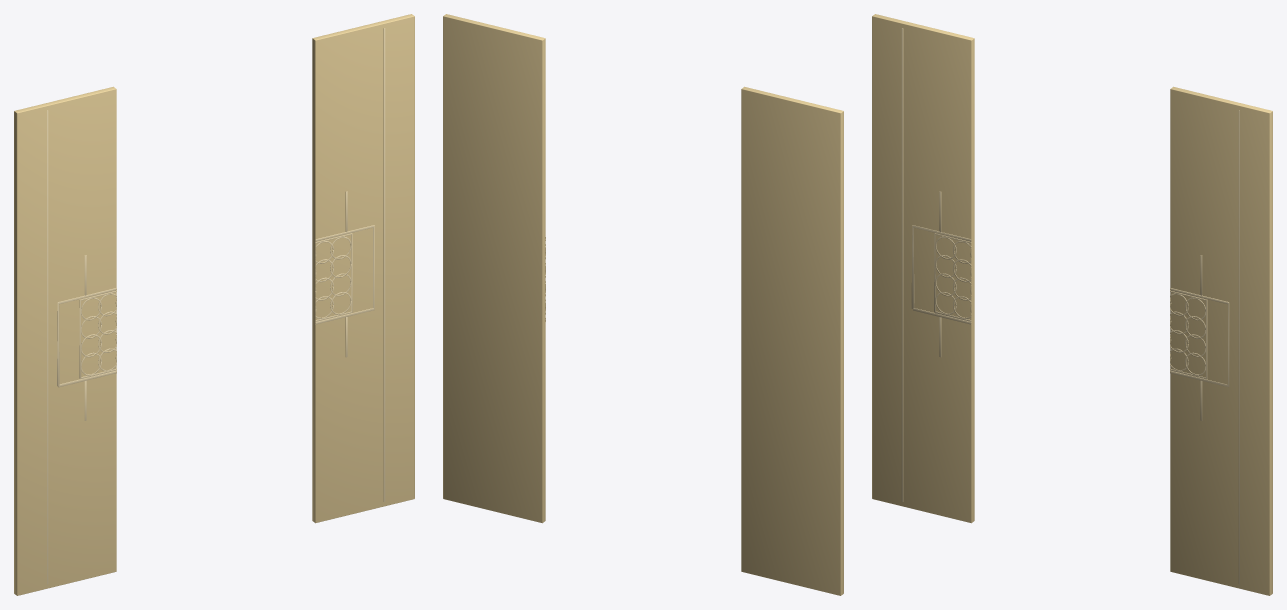
Rendered from landing_door_TM019.glb.
3 renders of one model, left to right at view 1: azimuth 30°, elevation 25°; view 2: azimuth 150°, elevation 25°; view 3: azimuth 330°, elevation 25°, orthographic.
Parts seen in each view (by area): view 1: Landing_Door_L, Landing_Door_R; view 2: Landing_Door_L, Landing_Door_R; view 3: Landing_Door_L, Landing_Door_R.
Boxes of the visible parts, <box> form: Landing_Door_L: <box>14,86,116,595</box>; Landing_Door_R: <box>312,14,414,523</box>; Landing_Door_L: <box>741,86,843,595</box>; Landing_Door_R: <box>443,14,545,523</box>; Landing_Door_L: <box>872,14,974,523</box>; Landing_Door_R: <box>1170,86,1272,595</box>.
Size of the model in its own units: 1.81 by 2.1 by 0.0266.
